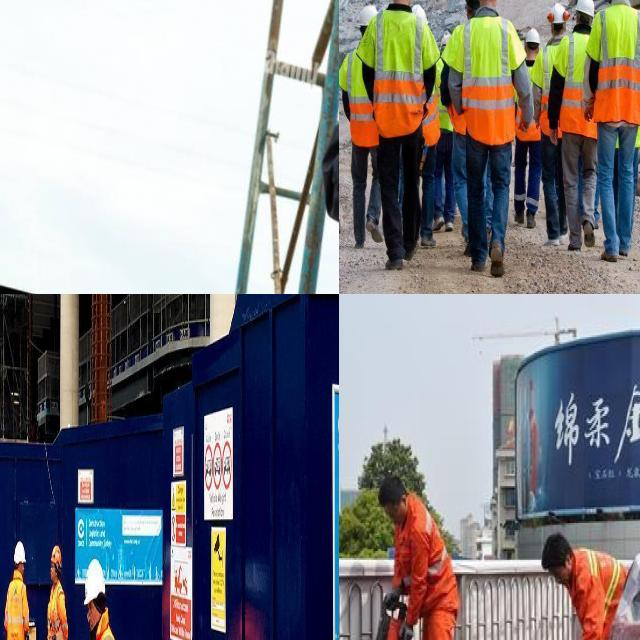face_nomask: (378, 502, 407, 528), (548, 562, 570, 596)
hand_glove: (378, 584, 403, 612), (400, 614, 416, 640)
head_helmet: (82, 556, 105, 606), (548, 4, 571, 28), (358, 4, 378, 28), (12, 540, 26, 569), (50, 541, 62, 574), (574, 0, 595, 18), (524, 28, 540, 46), (412, 4, 426, 18)
head_nohelmet: (538, 525, 571, 563), (379, 470, 404, 497)
person: (463, 0, 519, 284), (374, 0, 432, 271), (593, 0, 640, 260), (382, 481, 458, 640), (552, 0, 597, 254), (343, 5, 383, 251), (546, 532, 624, 635), (515, 28, 544, 232), (435, 32, 457, 234), (80, 553, 124, 640), (412, 509, 445, 604), (5, 535, 29, 640), (45, 543, 69, 640)
shoes: (489, 238, 508, 282), (381, 247, 404, 274), (402, 236, 418, 264), (526, 210, 538, 228)
vest: (458, 13, 520, 142), (367, 11, 428, 129), (587, 4, 640, 126), (558, 30, 596, 139), (339, 47, 379, 146), (581, 551, 620, 614), (537, 45, 562, 138), (1, 574, 26, 640), (44, 579, 66, 640)
